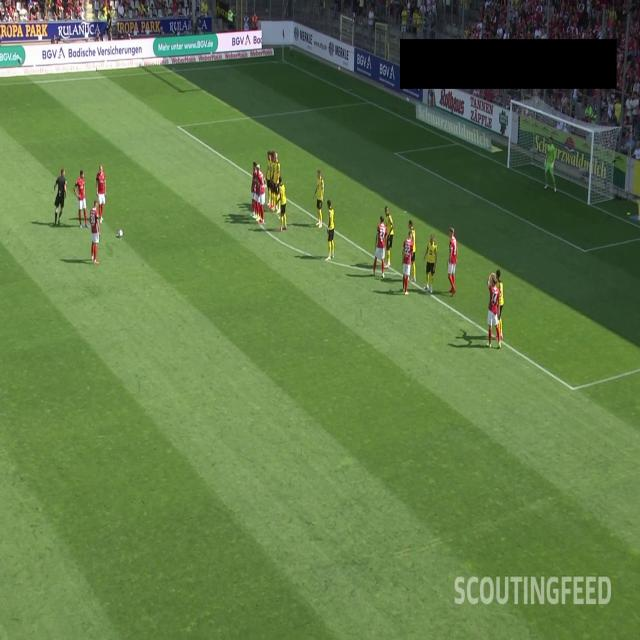ball: (116, 224, 124, 242)
player: (485, 269, 503, 352), (369, 214, 386, 280), (74, 168, 90, 230), (423, 232, 438, 296), (542, 135, 558, 193), (494, 266, 506, 341), (447, 227, 459, 299), (402, 231, 415, 296), (311, 166, 324, 230), (89, 198, 101, 265), (383, 204, 395, 268), (96, 162, 108, 222), (407, 212, 417, 284), (324, 194, 334, 261), (279, 175, 288, 233), (258, 165, 266, 228), (273, 151, 280, 214), (250, 158, 257, 220), (270, 146, 275, 212), (256, 160, 261, 222), (267, 148, 272, 208)
referee: (52, 162, 68, 229)
